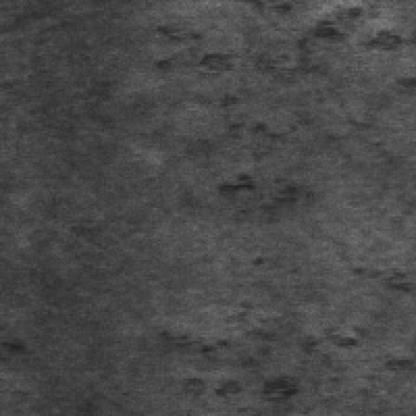rolled-in_scale: (156, 276, 408, 400), (154, 0, 399, 71), (210, 108, 302, 221)
